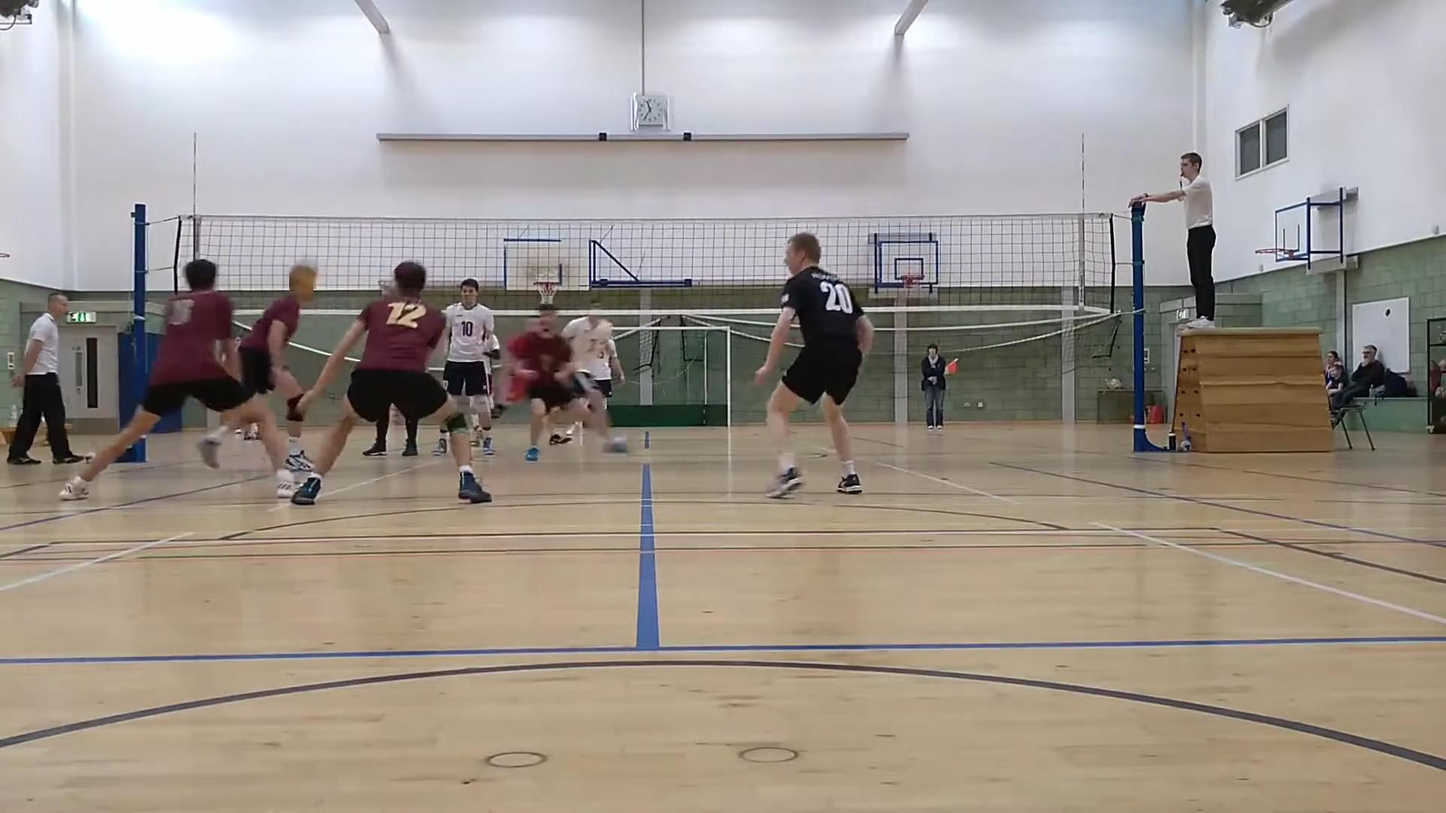ricezione: (61, 253, 298, 501)
